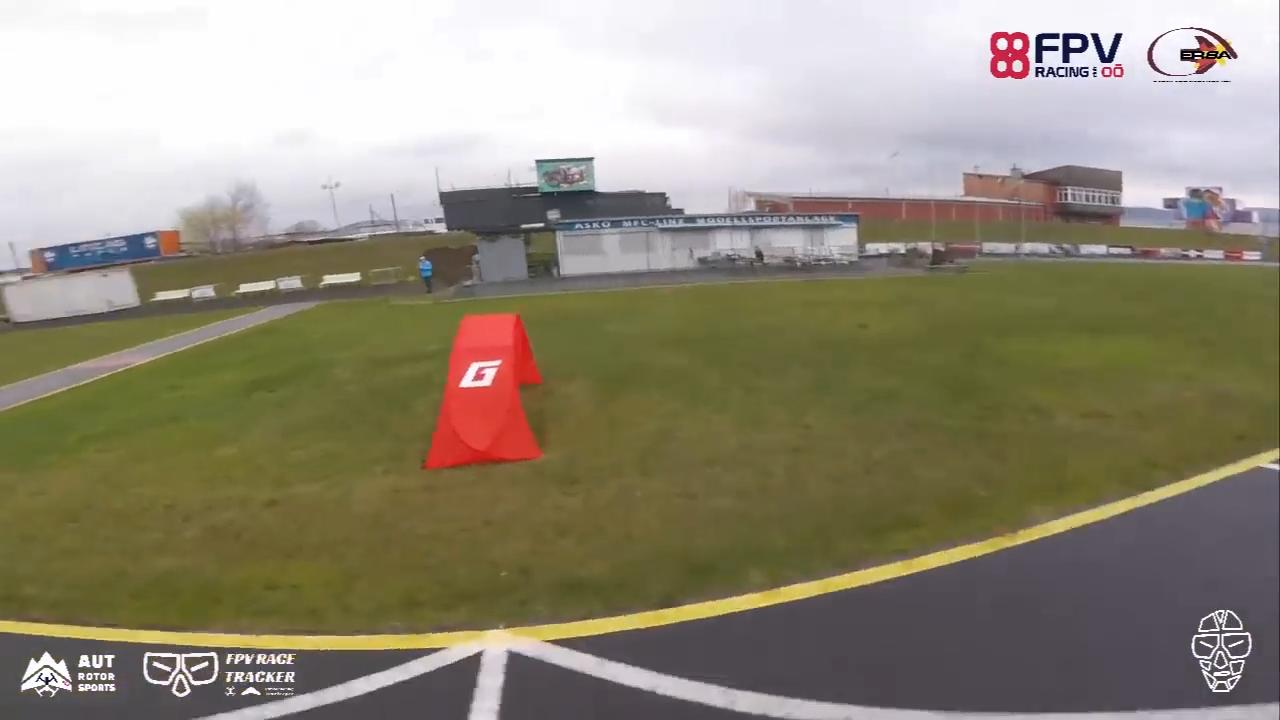gate: (416, 312, 547, 471)
